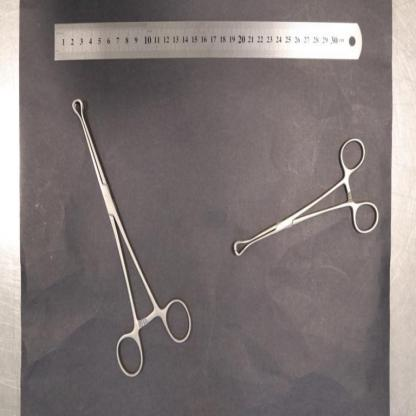8 Babcock Tissue Forceps: (72, 98, 192, 377)
Babcock Tissue Forceps: (233, 138, 379, 257)
